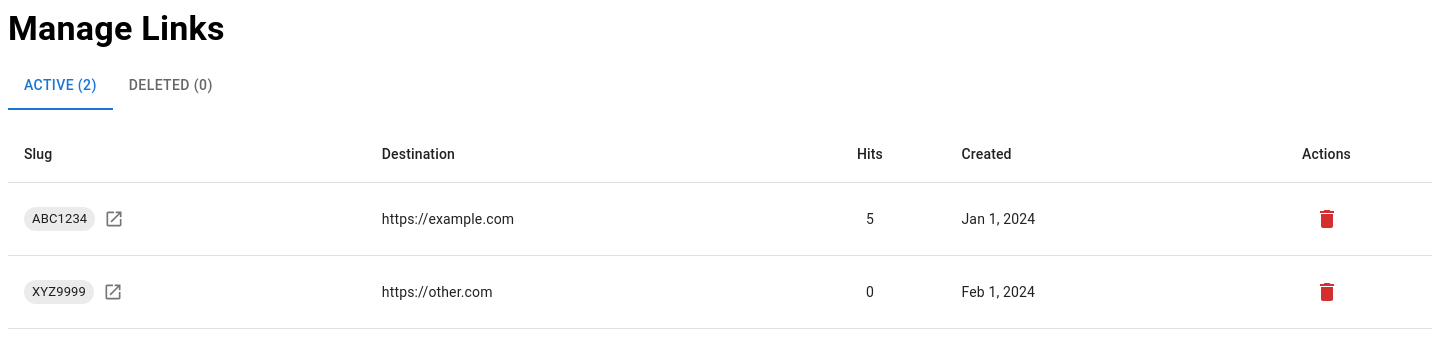
Scenario: List page › shows empty state on deleted tab when none
Expected: the text "ABC1234" is shown, [32,211,87,226]
Click the tab "Deleted (0)". click: (171, 86)
box: [113,62,229,110]
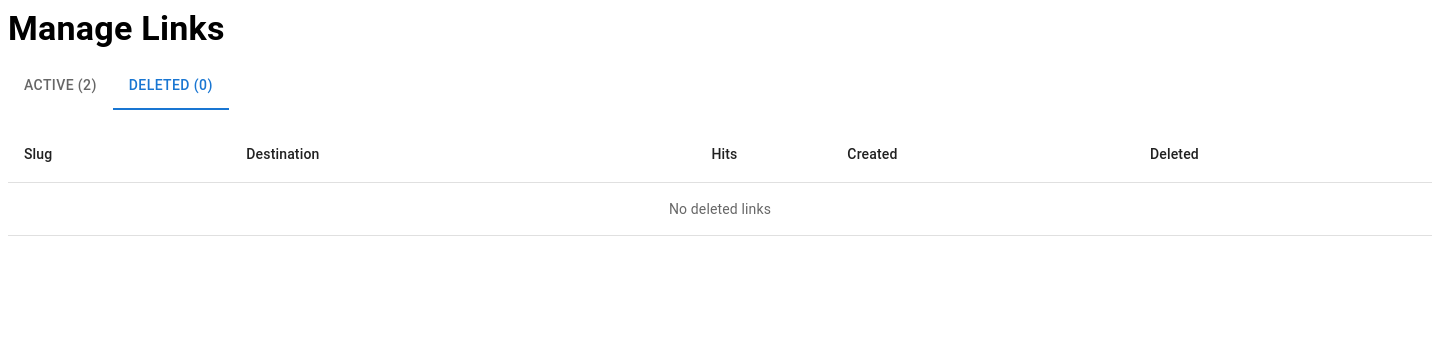
Result: the text "No deleted links" is shown at [8,182,1432,235]
